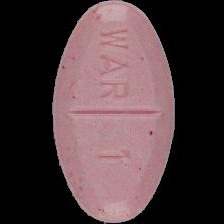54868-4349: (0, 0, 224, 224)
